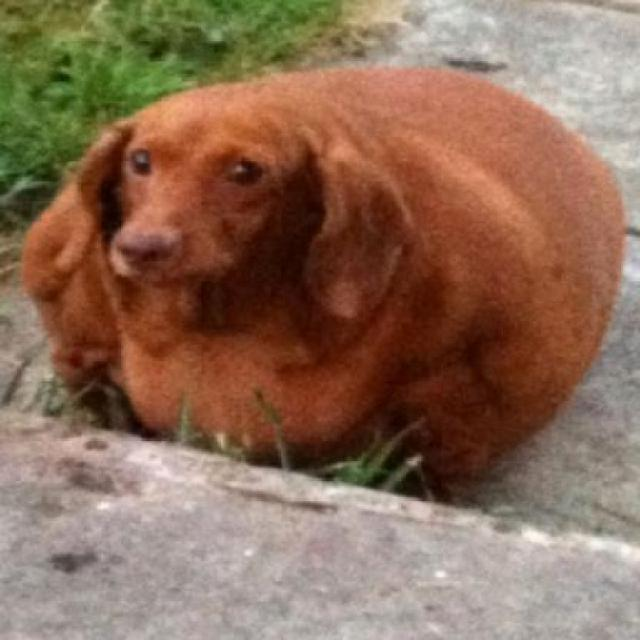Dog: (23, 57, 626, 492)
